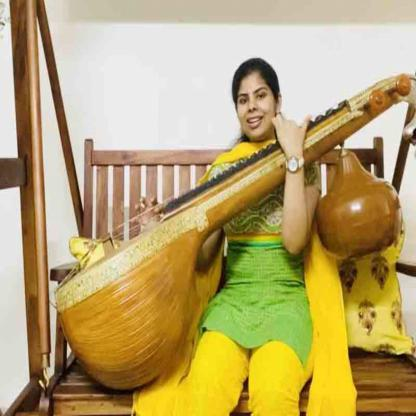Veena: (55, 137, 293, 318)
